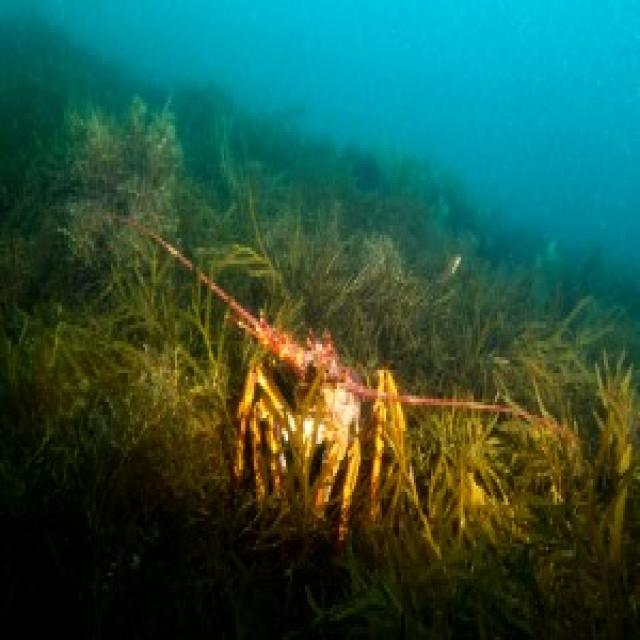lobsters: (115, 128, 454, 570)
